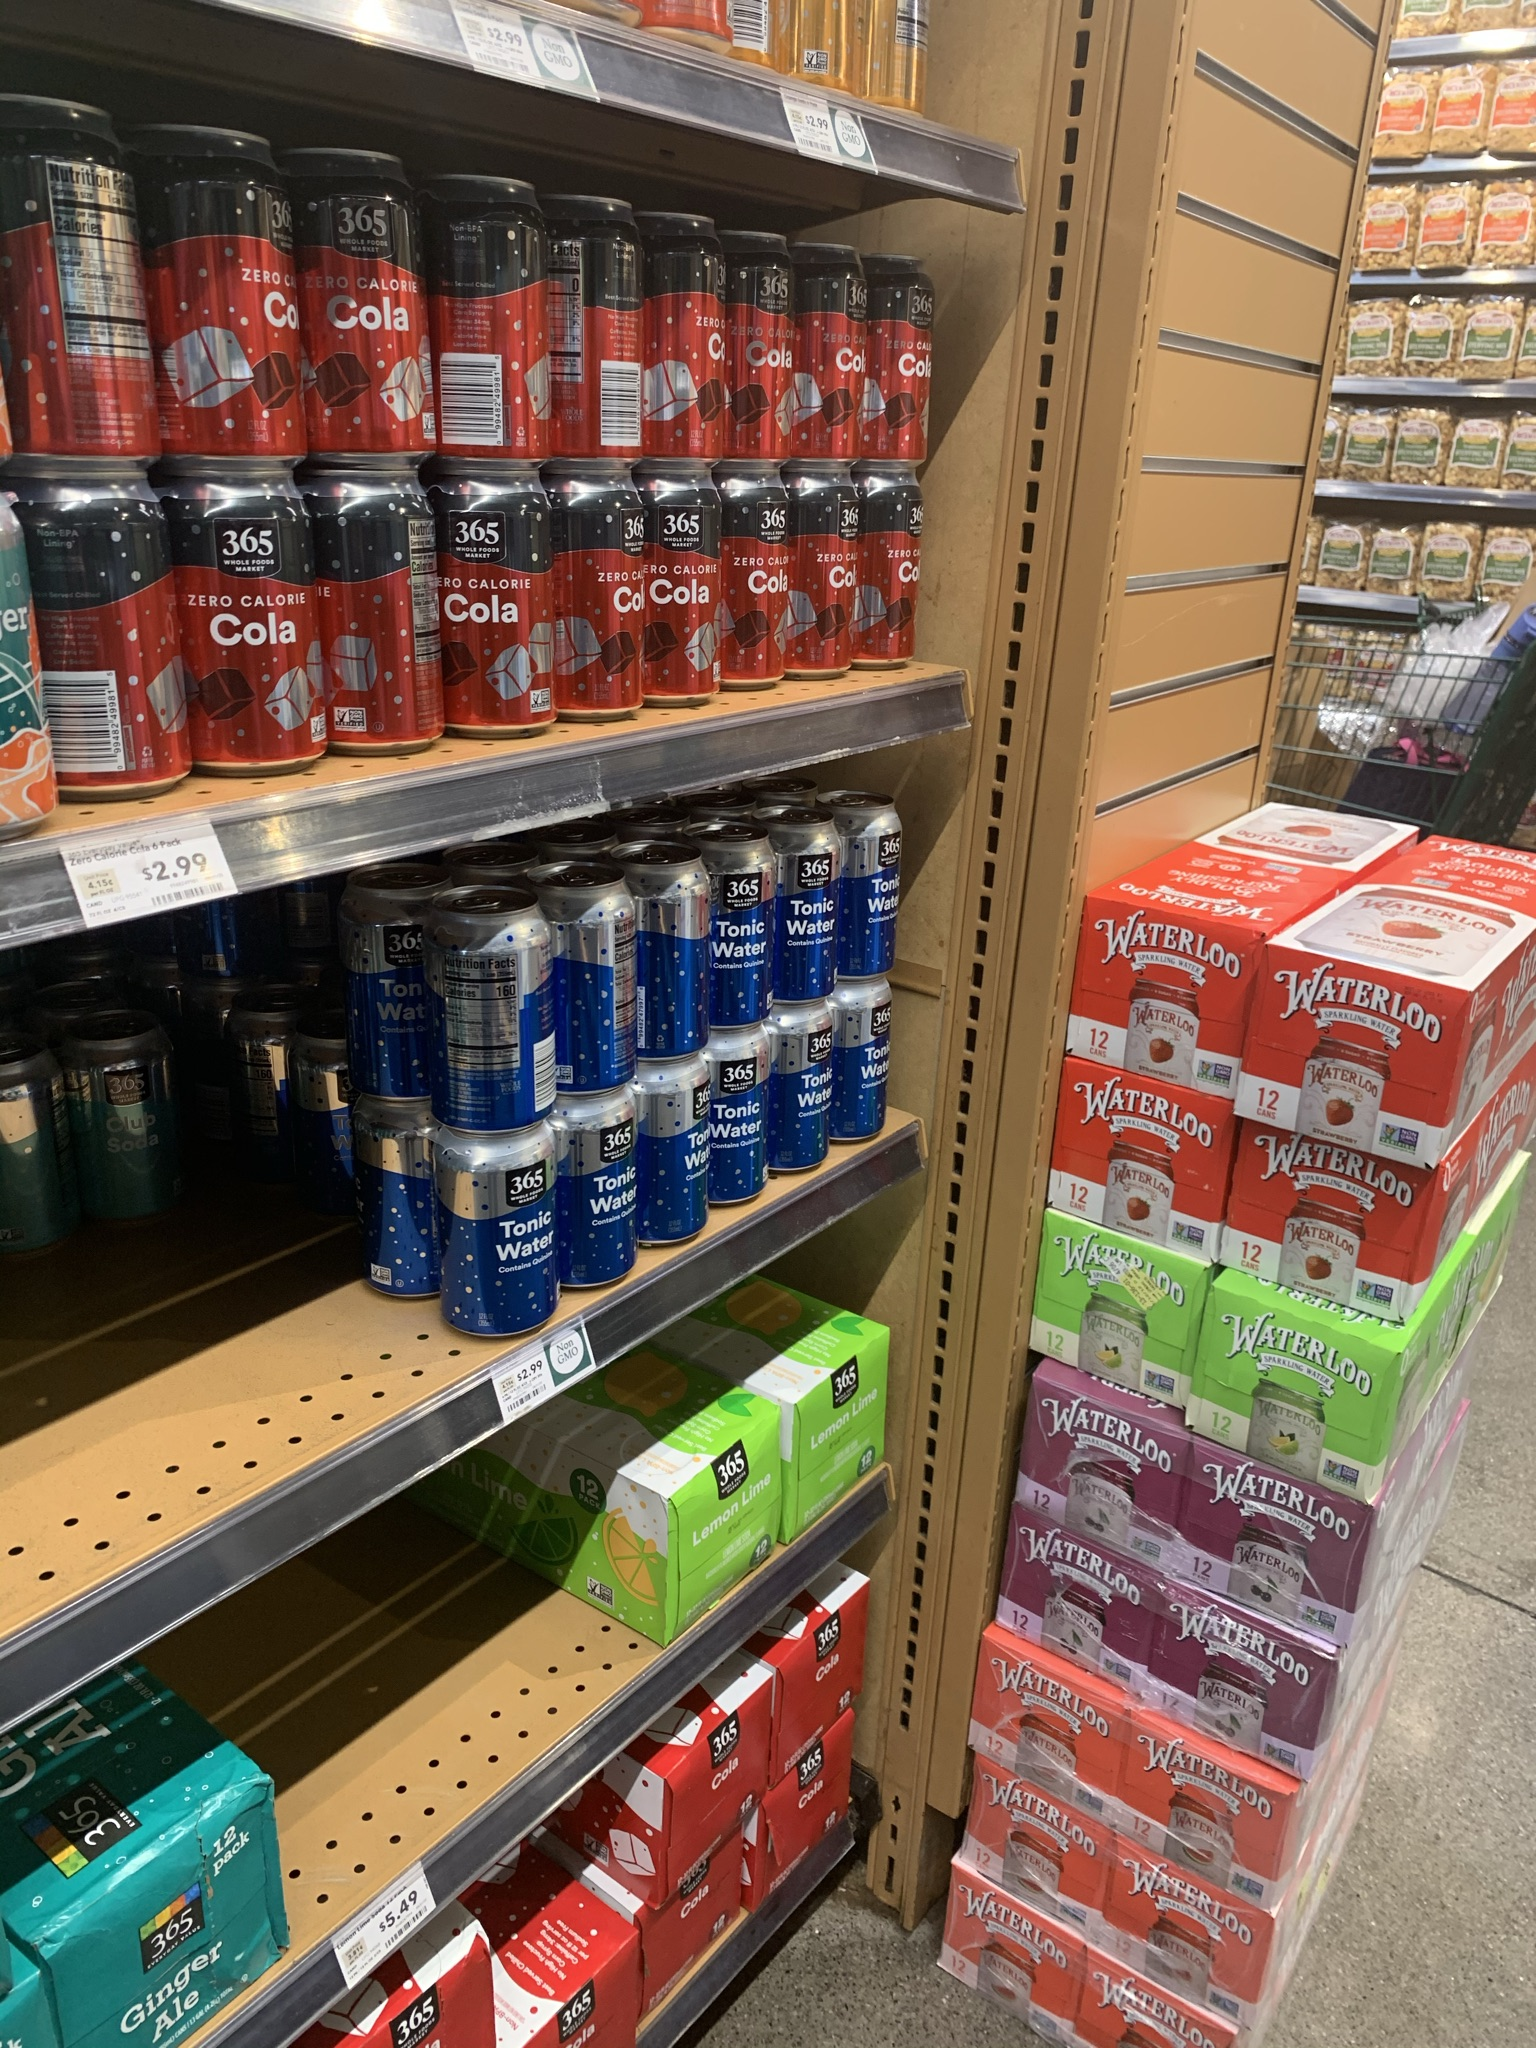box: (68, 1793, 265, 2001), (1279, 961, 1433, 1142), (1087, 901, 1249, 1066), (1071, 1093, 1212, 1222), (641, 1438, 774, 1572), (1217, 1330, 1379, 1432), (1255, 1176, 1418, 1276), (1049, 1253, 1187, 1361), (791, 1340, 878, 1505), (1194, 1496, 1347, 1585), (1028, 1435, 1171, 1506)
can: (10, 110, 150, 453), (194, 474, 324, 751), (171, 140, 278, 448), (436, 469, 560, 731), (311, 160, 418, 452), (60, 490, 163, 784), (437, 485, 557, 722), (449, 926, 552, 1109), (645, 484, 724, 698), (860, 248, 936, 461), (460, 1150, 549, 1330), (84, 1042, 173, 1218), (733, 489, 795, 684), (803, 474, 866, 669), (574, 893, 632, 1076), (657, 868, 707, 1050), (653, 1084, 703, 1238), (791, 830, 837, 993), (582, 1109, 628, 1274), (726, 848, 766, 1014), (787, 1026, 831, 1168), (860, 813, 900, 966), (720, 1051, 760, 1197), (857, 1006, 887, 1138)
